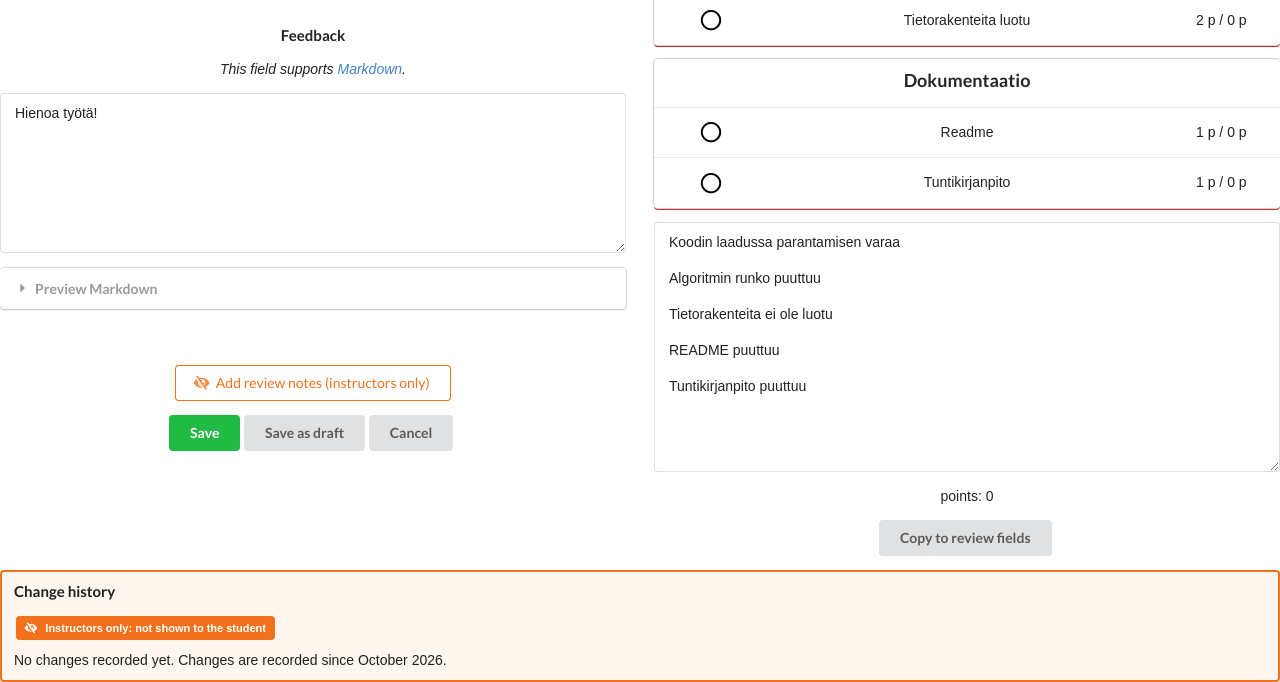
it: <ReviewStudent /> › ReviewStudent Component › review notes › are collapsed into an "Add review notes" button while empty
(page scrolled)
Click the button "Add review notes (instructors only)" at (313, 383), box 175,365 -> 451,401
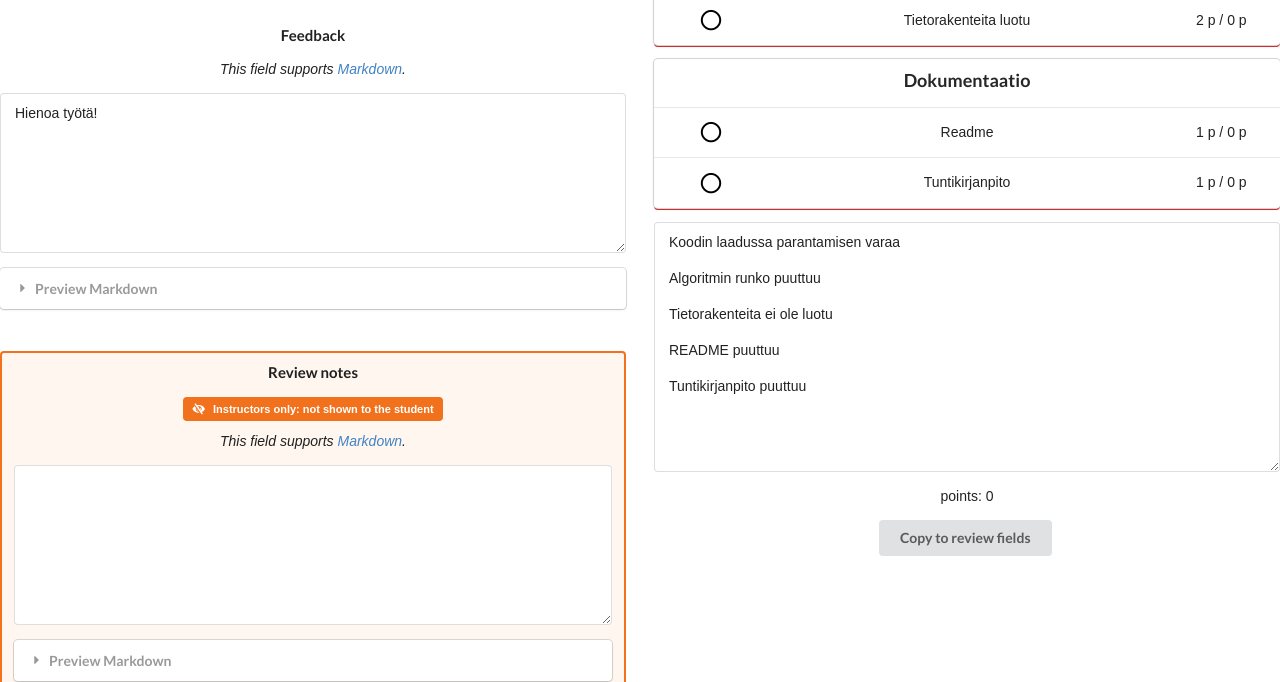
Check: the element with class "instructorNotes" shows "Review notes", box 268,363 -> 358,381
Check: the element with class "instructorNotes" shows "Instructors only: not shown to the student", box 213,403 -> 434,415
Check: the text box named "instructorNotes" below "Review notes" is shown, box 14,465 -> 612,625
